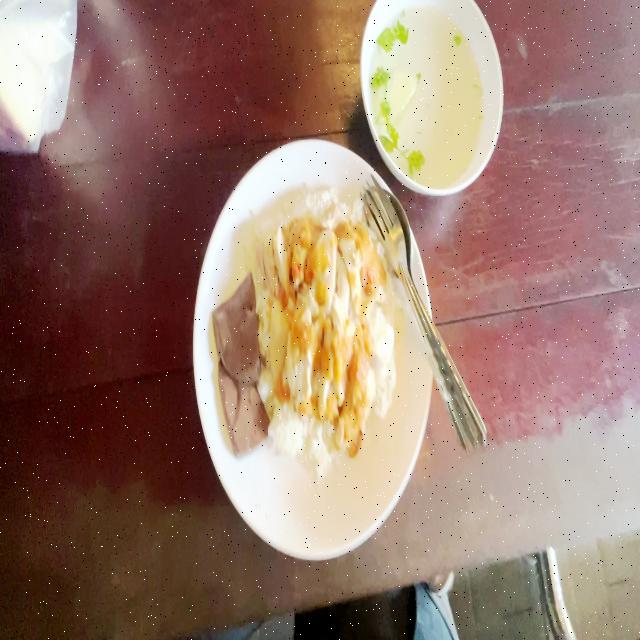boiled_chicken: (274, 217, 366, 420)
boiled_chicken_blood_jelly: (215, 273, 262, 388), (215, 362, 268, 456)
chicken_rice: (216, 190, 401, 478)
